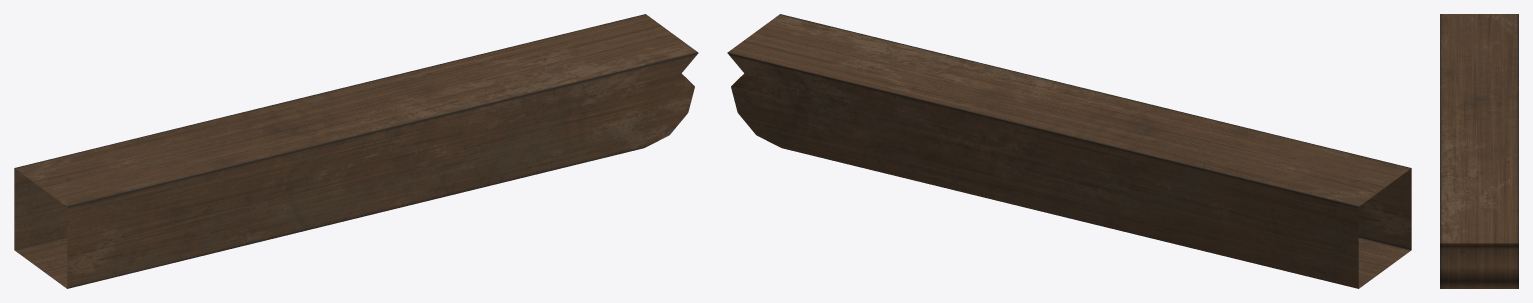
The model's file is TowerOverhang_WoodenSupportStraight.fbx.
3 renders of one model, left to right at view 1: azimuth 30°, elevation 25°; view 2: azimuth 150°, elevation 25°; view 3: azimuth 270°, elevation 25°, orthographic. The views are drawn at different scales.
Parts seen in each view (by area): view 1: polySurface139; view 2: polySurface139; view 3: polySurface139.
Part boxes in pixels (<box>): polySurface139: <box>14,14,698,288</box>; polySurface139: <box>727,14,1411,288</box>; polySurface139: <box>1440,14,1518,288</box>.
Size of the model in its own units: 117 by 14.52 by 17.
